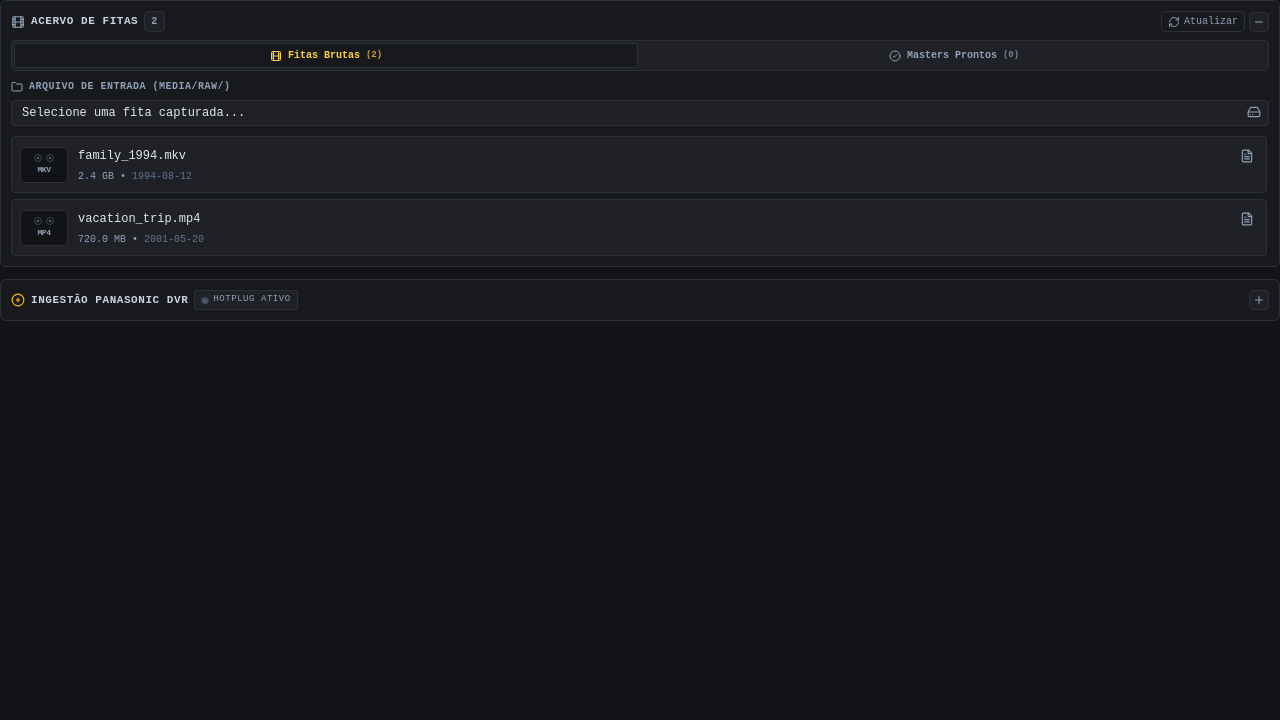
Test: FileSelector Tape Library Component › renders and toggles panasonic dvr ingest section
The image size is (1280, 720).
Click the button with test id "toggle-panasonic-ingest-btn" at (1259, 300), box [1249,290,1269,310]
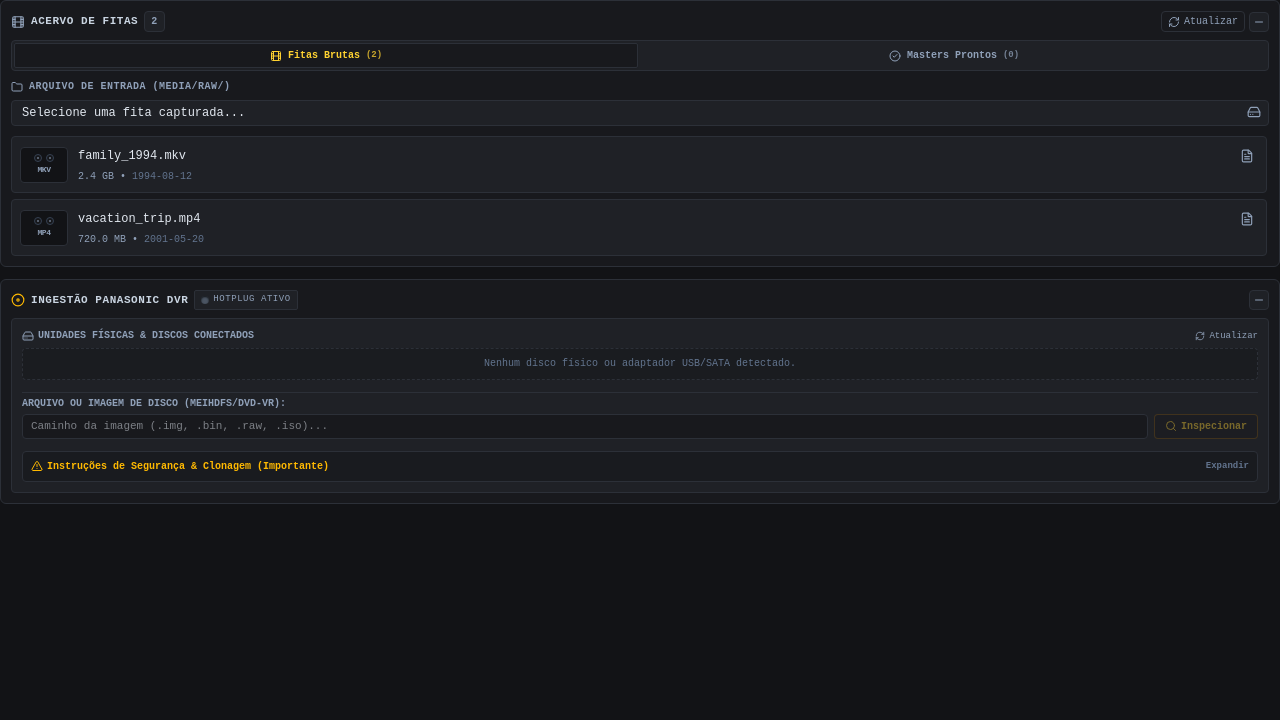
Result: the field with test id "panasonic-path-input" is shown at [22,414,1148,439]
Result: the button with test id "inspect-panasonic-btn" is shown at [1154,414,1258,439]
